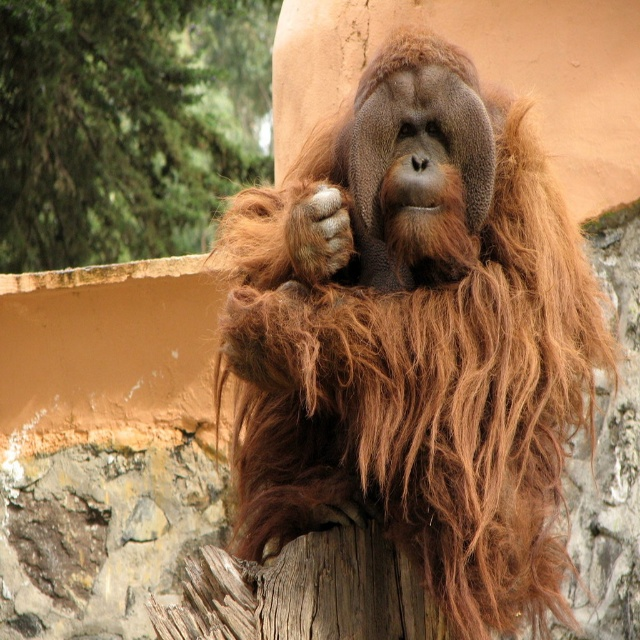Monkey: (191, 24, 640, 635)
